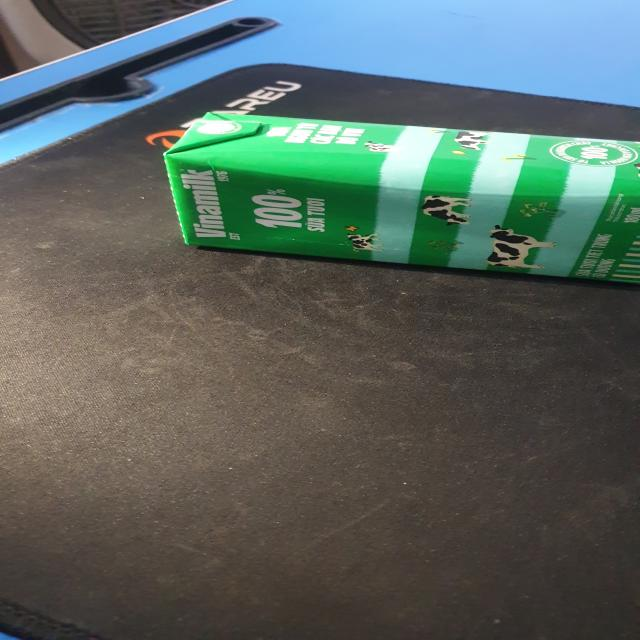Vina: (161, 111, 640, 287)
